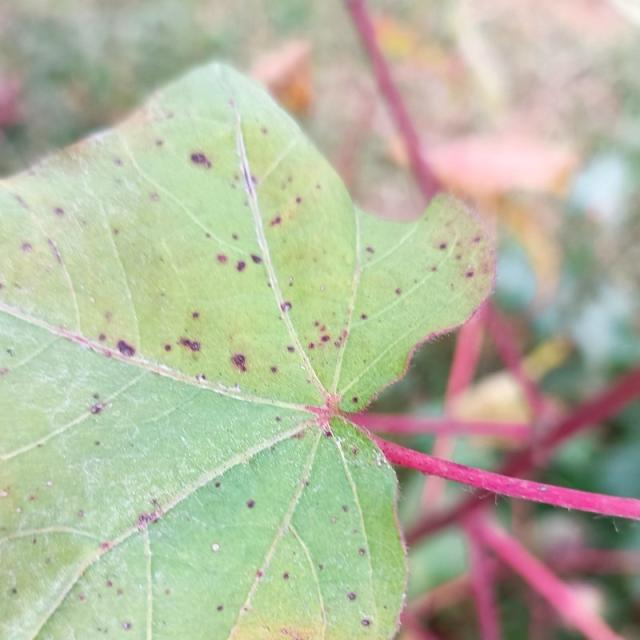Bacterial_Blight: (10, 476, 199, 637), (167, 322, 210, 368), (306, 318, 343, 354), (213, 248, 259, 274), (134, 504, 166, 529), (44, 236, 63, 264), (230, 353, 248, 372), (190, 152, 211, 168), (280, 627, 308, 639), (116, 339, 135, 356), (89, 403, 105, 415), (216, 253, 228, 264), (279, 301, 291, 312), (270, 216, 281, 227), (21, 242, 32, 252), (246, 499, 255, 509), (54, 207, 64, 216), (323, 429, 332, 439), (113, 157, 123, 166), (0, 367, 10, 376), (150, 192, 159, 201), (101, 541, 110, 550), (347, 592, 356, 601), (250, 175, 258, 185), (465, 270, 474, 278), (286, 345, 295, 353), (104, 311, 112, 320), (98, 333, 106, 342), (155, 139, 164, 147), (76, 509, 84, 518), (351, 447, 359, 456), (6, 348, 14, 357), (191, 311, 199, 319), (439, 242, 447, 250), (366, 246, 374, 254), (270, 366, 278, 374), (151, 498, 159, 506), (341, 504, 349, 512), (78, 593, 86, 601), (362, 619, 370, 627), (28, 494, 37, 501), (164, 344, 171, 352), (394, 288, 402, 295), (473, 236, 481, 243), (359, 548, 366, 556), (1, 490, 8, 498), (360, 313, 367, 320), (295, 197, 302, 204), (92, 392, 99, 399), (303, 480, 310, 487), (352, 397, 359, 404), (331, 516, 338, 523), (11, 588, 18, 595), (46, 480, 53, 487), (232, 233, 238, 241), (288, 276, 293, 285), (308, 342, 314, 349), (214, 482, 221, 488), (275, 416, 282, 422), (32, 537, 37, 545), (431, 266, 437, 272), (94, 440, 100, 446), (15, 507, 21, 513), (318, 563, 323, 570), (320, 285, 325, 291), (383, 605, 388, 610)
Cotton: (0, 62, 494, 639)
